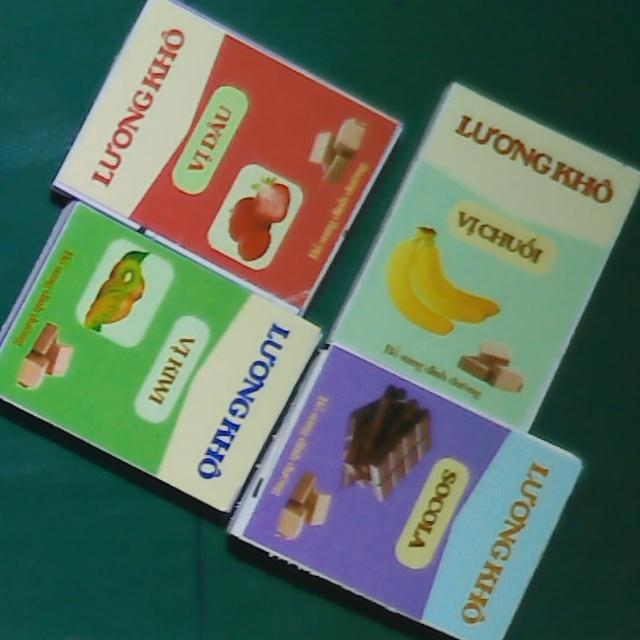kiwi: (0, 196, 325, 516)
socola: (225, 337, 585, 640)
